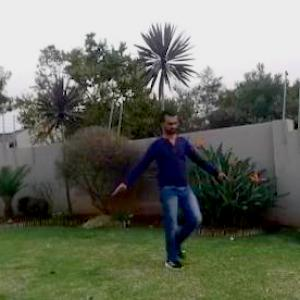land: (115, 119, 220, 251)
